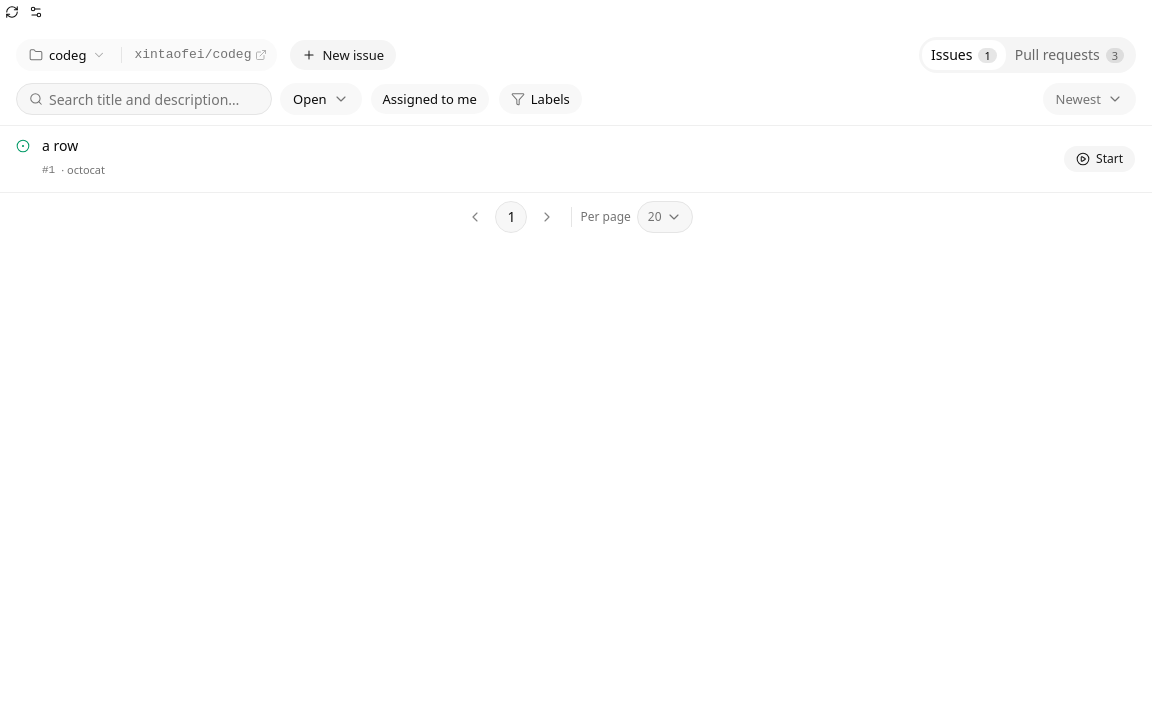
Test case: ForgePage settings button › opens the panel's preferences from the window chrome
The width and height of the screenshot is (1152, 720).
Check: the button "a row" is shown, box [42, 136, 78, 156]
What coordinates should you click on to do the following:
click the button named "Panel settings"
I would click on:
 (36, 12)
Its box is [24, 0, 48, 24].
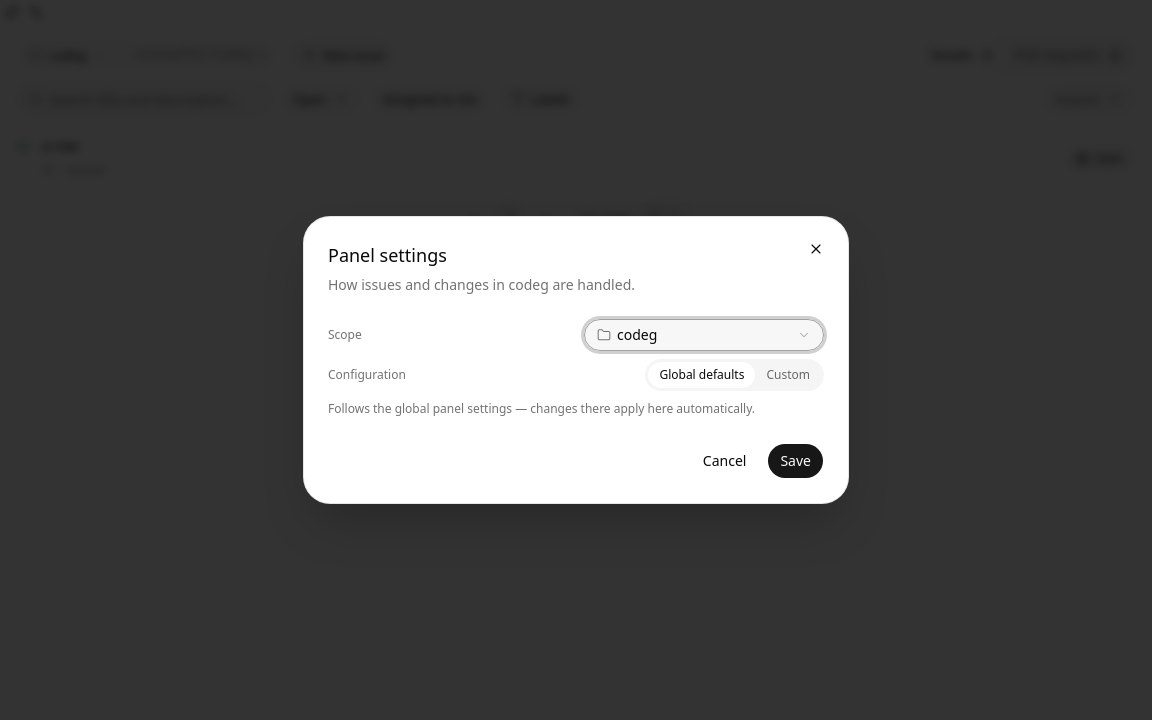
Check: the text "How issues and changes in codeg are handled." is shown, box [328, 275, 635, 294]
